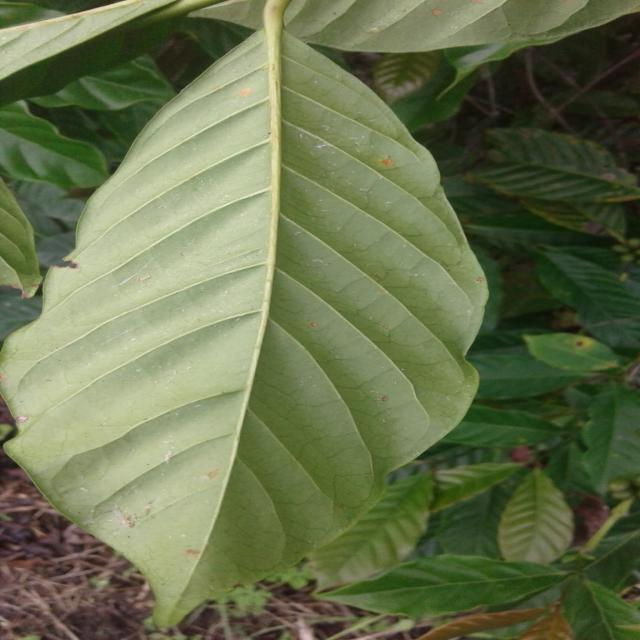Enfermedad-Roya: (0, 0, 489, 631)
